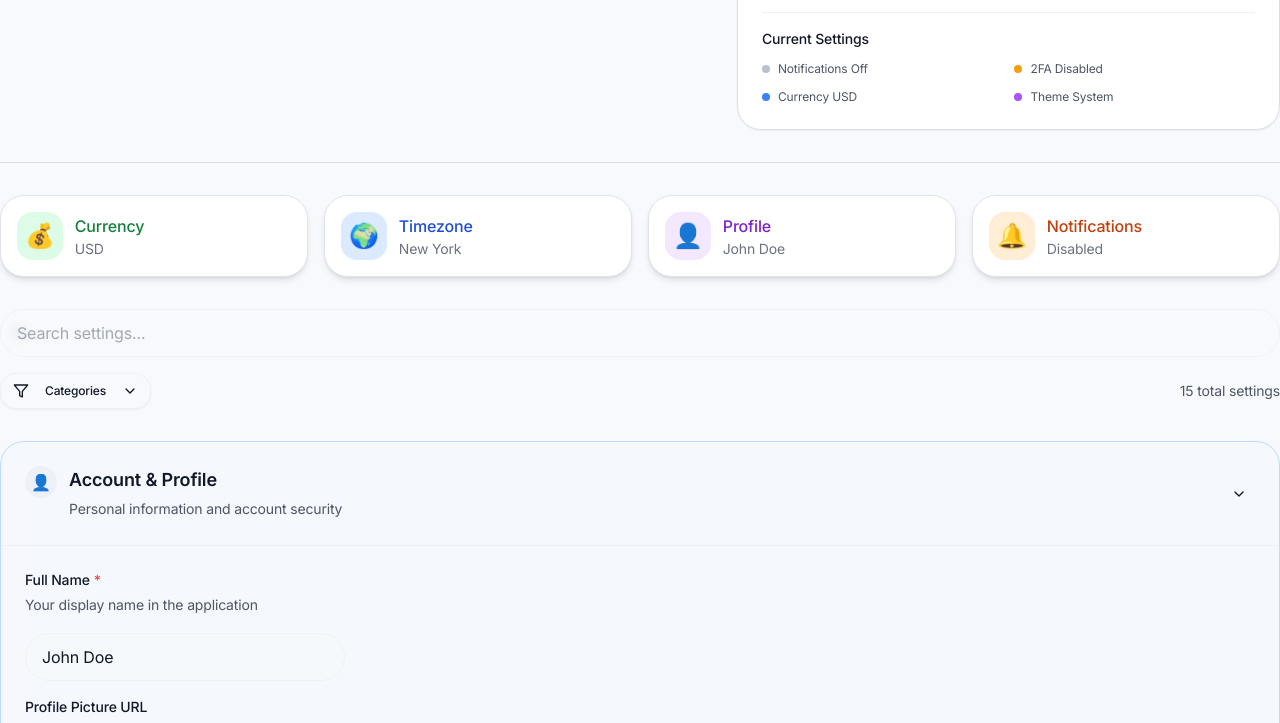
Test: SettingsPageRedesigned › Search and Filtering › clears search when clear filters button is clicked
The image size is (1280, 723).
(page scrolled)
Step 1. Type "nonexistent" into the field with placeholder "Search settings..." → coordinates (640, 333), box [0, 309, 1279, 357]
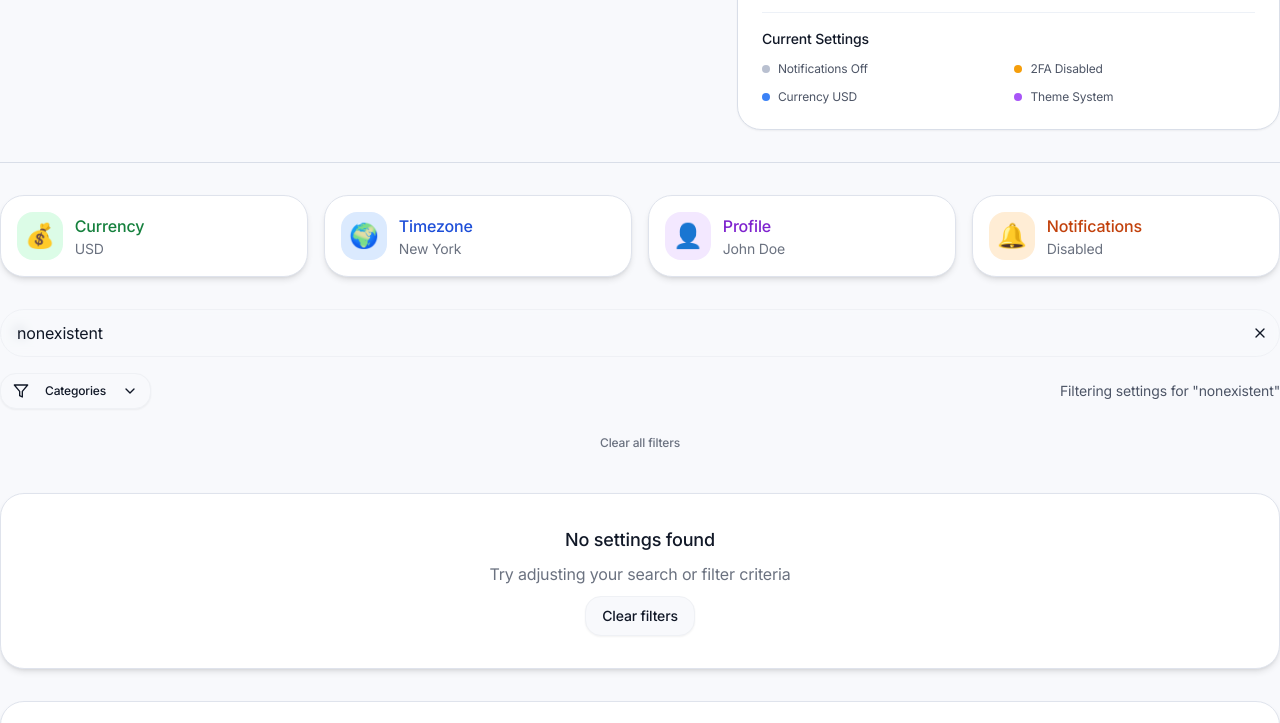
expect the heading "No settings found" is shown: met, box [565, 529, 715, 550]
Step 2. Click the button "Clear filters" → coordinates (640, 616), box [585, 596, 695, 636]
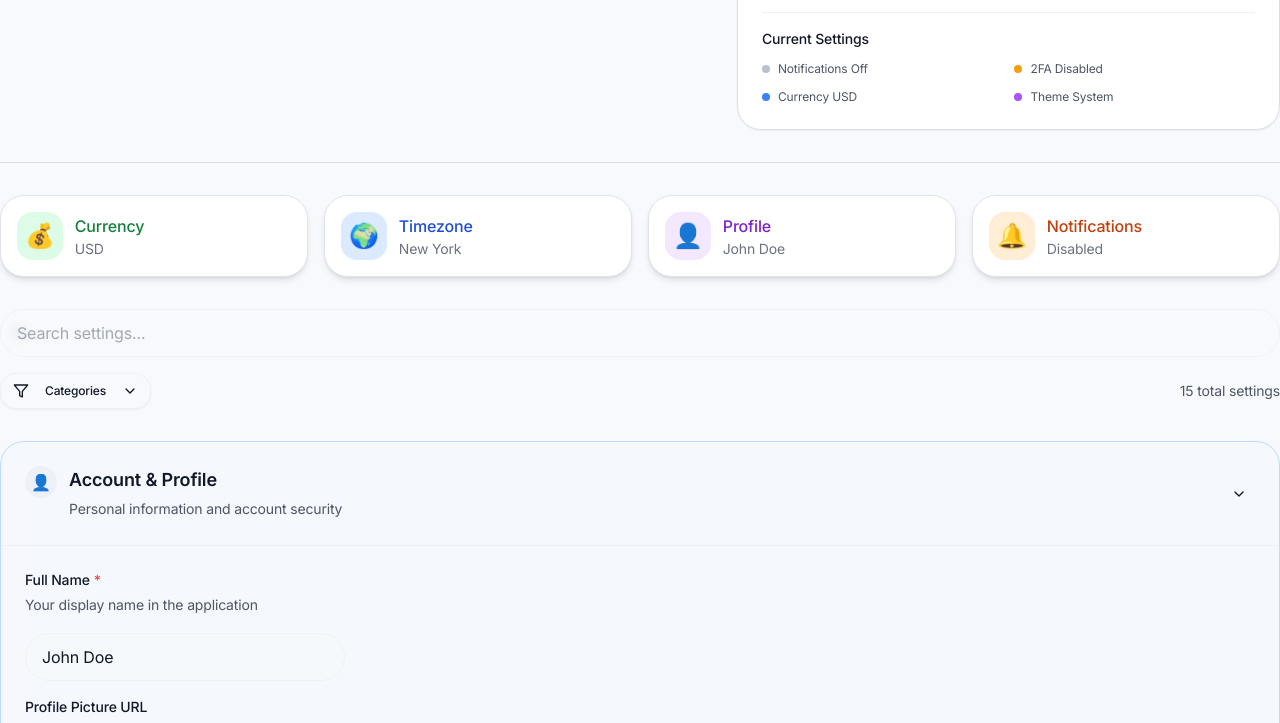
expect the heading "Account & Profile" is shown: met, box [69, 466, 217, 494]
expect the field with placeholder "Search settings..." is empty: met, box [0, 309, 1279, 357]
